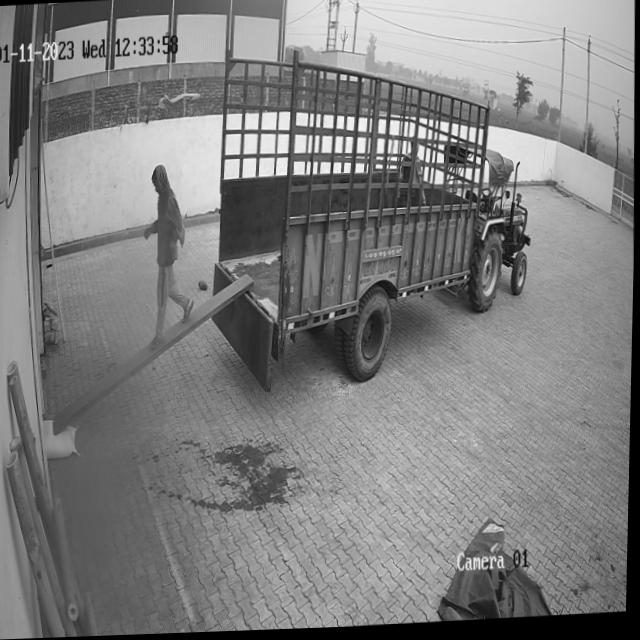sack: (42, 417, 80, 459)
